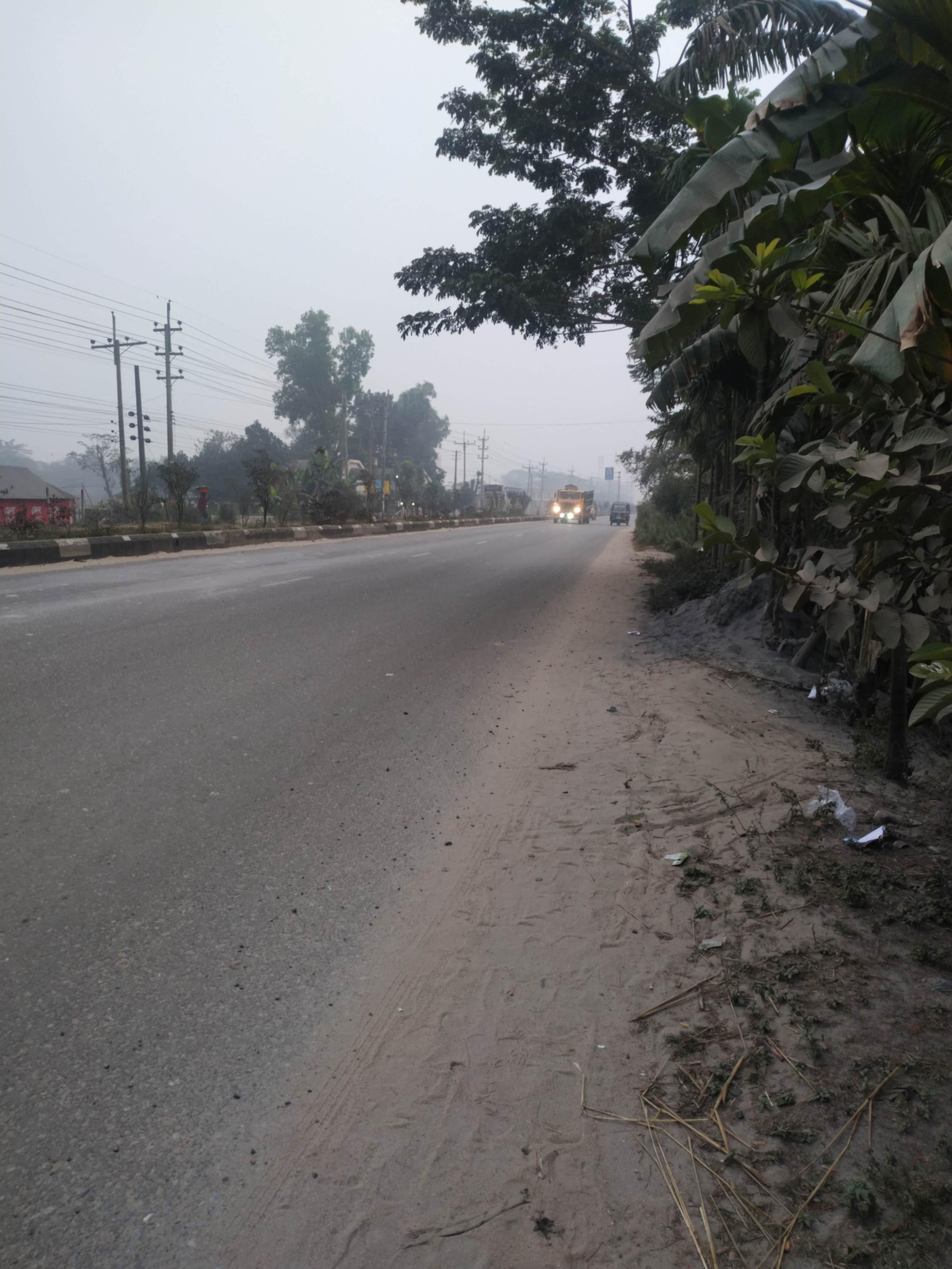Truck: (541, 474, 603, 530)
